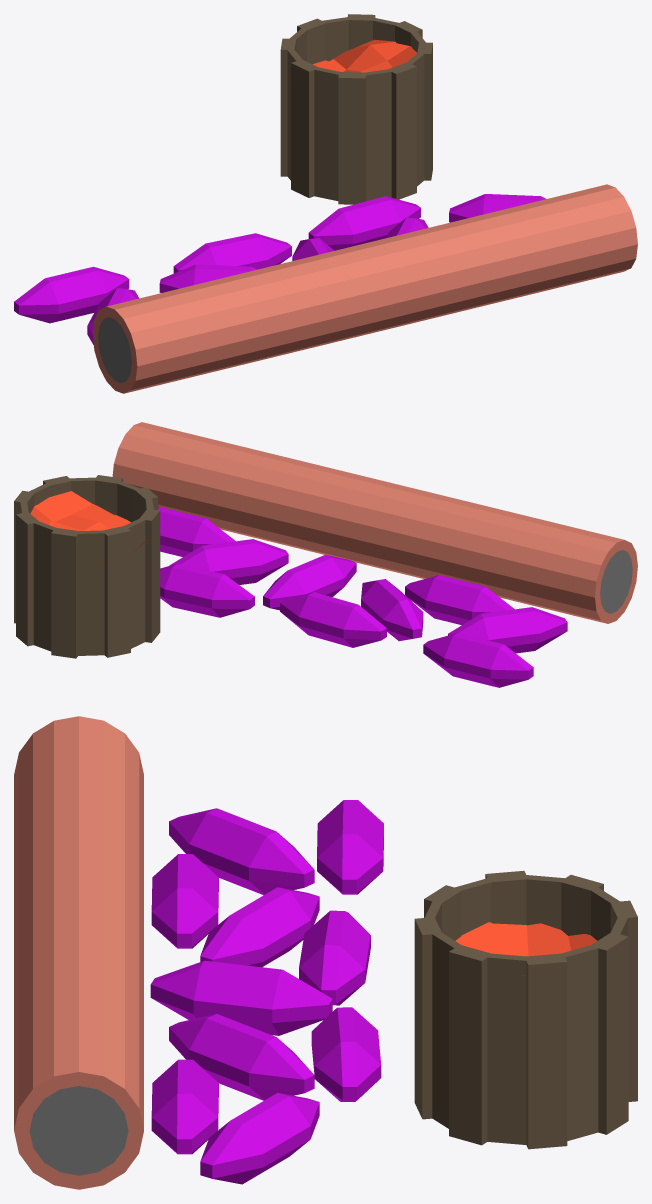
The model's file is resources.fbx.
The picture shows the model from 3 angles, top to bottom: view 1: azimuth 30°, elevation 25°; view 2: azimuth 150°, elevation 25°; view 3: azimuth 270°, elevation 25°; orthographic projection. The views are drawn at different scales.
Visible parts, largest first — view 1: wood, energoHoneyBarrel, berezenium_minerals; view 2: wood, berezenium_minerals, energoHoneyBarrel; view 3: berezenium_minerals, wood, energoHoneyBarrel.
Boxes of the visible parts, x1,y1,x2,y2 form: wood: [92, 184, 637, 393]; energoHoneyBarrel: [280, 14, 432, 204]; berezenium_minerals: [14, 194, 545, 344]; wood: [112, 422, 637, 623]; berezenium_minerals: [158, 507, 567, 687]; energoHoneyBarrel: [14, 475, 160, 658]; berezenium_minerals: [150, 800, 383, 1184]; wood: [14, 716, 143, 1189]; energoHoneyBarrel: [414, 870, 637, 1149].
Bounding box in the file's own units: 847 × 223 × 614.
